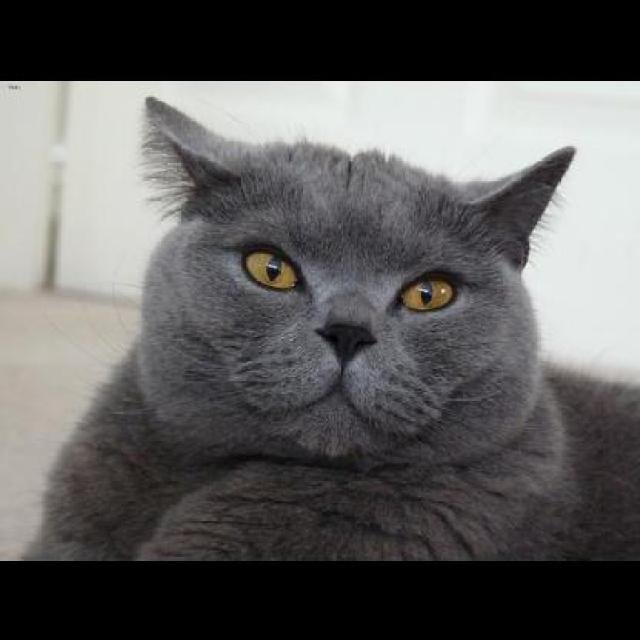unauthorized: (20, 94, 638, 560)
